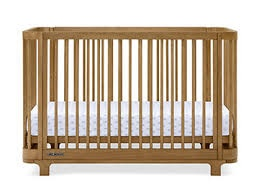crib: (23, 27, 236, 174)
